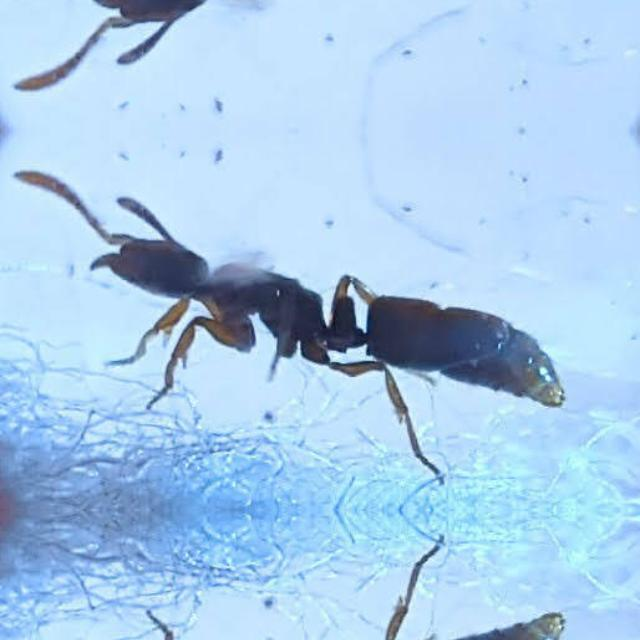Ponera: (27, 183, 617, 455), (27, 0, 617, 76), (27, 564, 617, 640)
